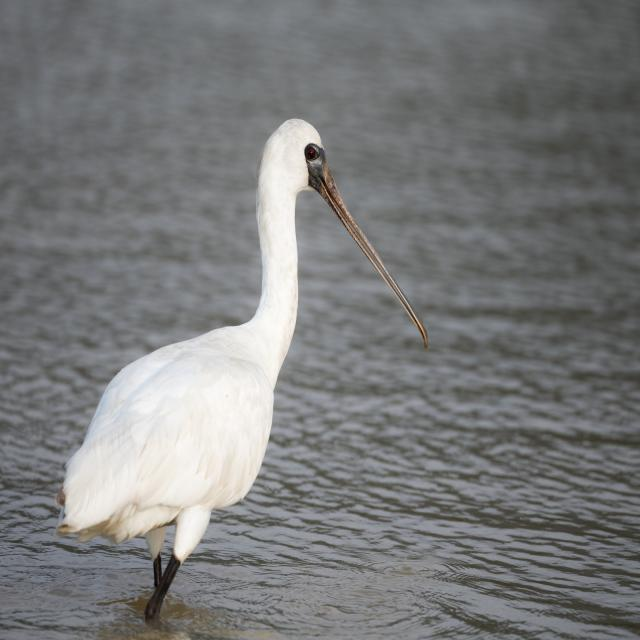Black-faced spoonbill: (57, 120, 427, 618)
